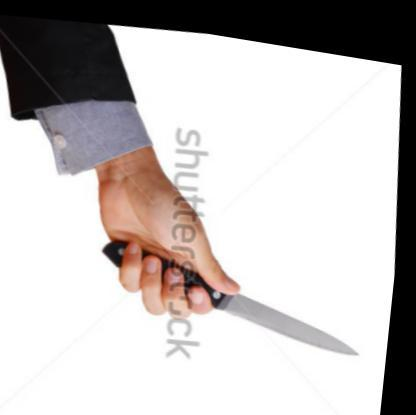knife: (140, 231, 380, 361)
